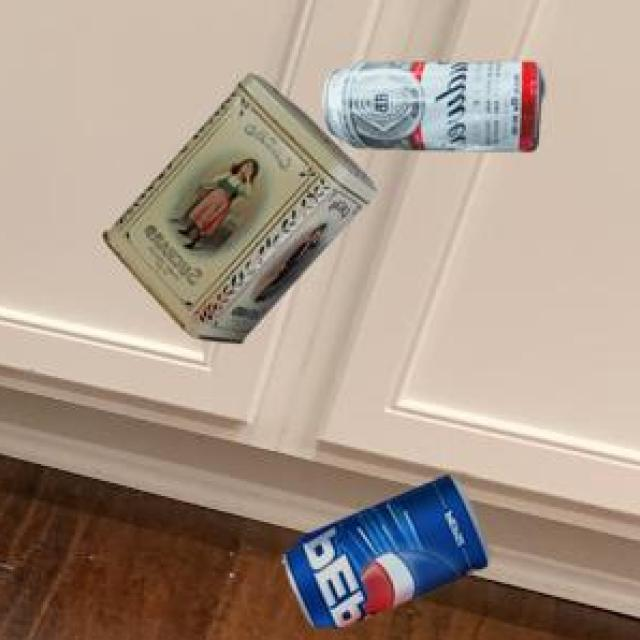logam: (106, 72, 379, 340), (287, 474, 493, 624), (328, 59, 547, 147)
